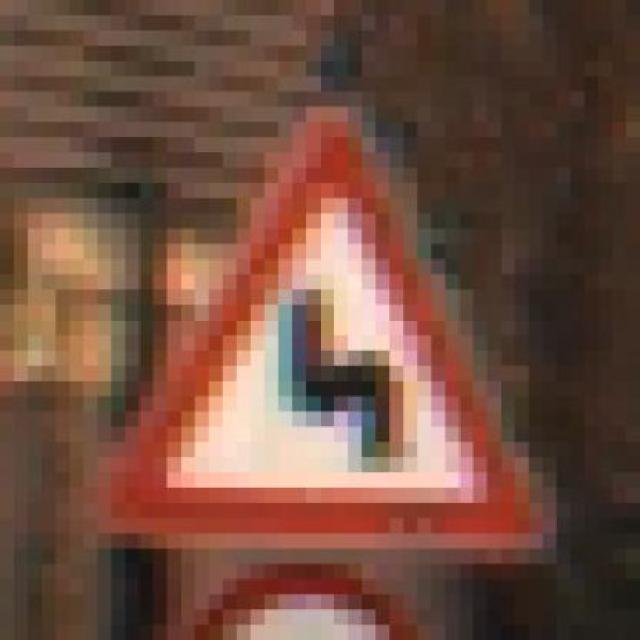Left Zig Zag Traffic: (56, 92, 570, 579)
